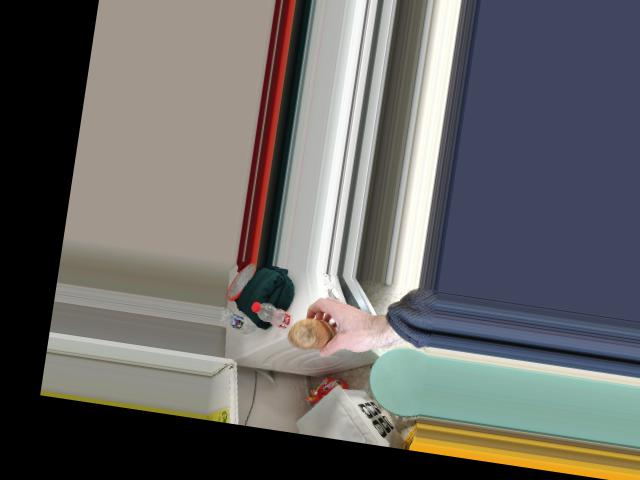sweet_potato: (282, 312, 342, 359)
